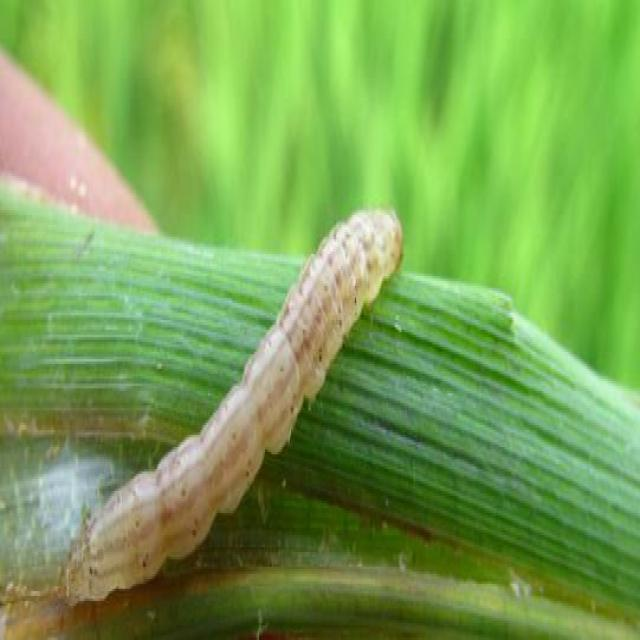yellow-stem-borer-larva: (58, 182, 442, 600)
